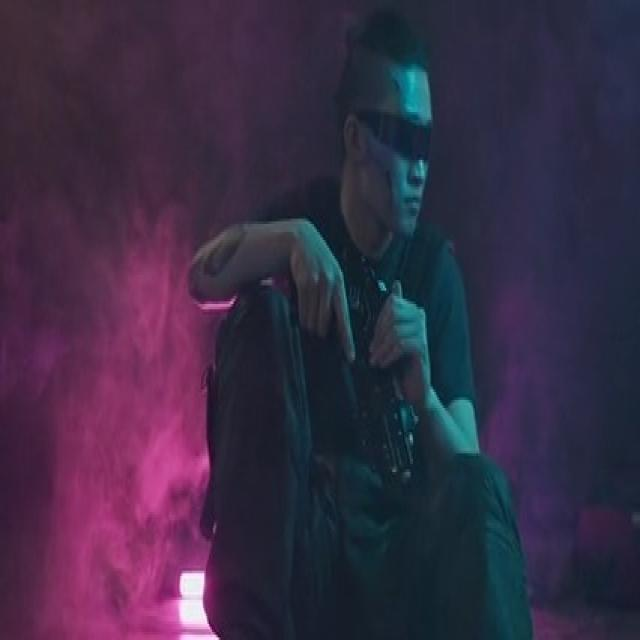Gun_Holder: (299, 245, 434, 504)
Person: (204, 0, 540, 640)
